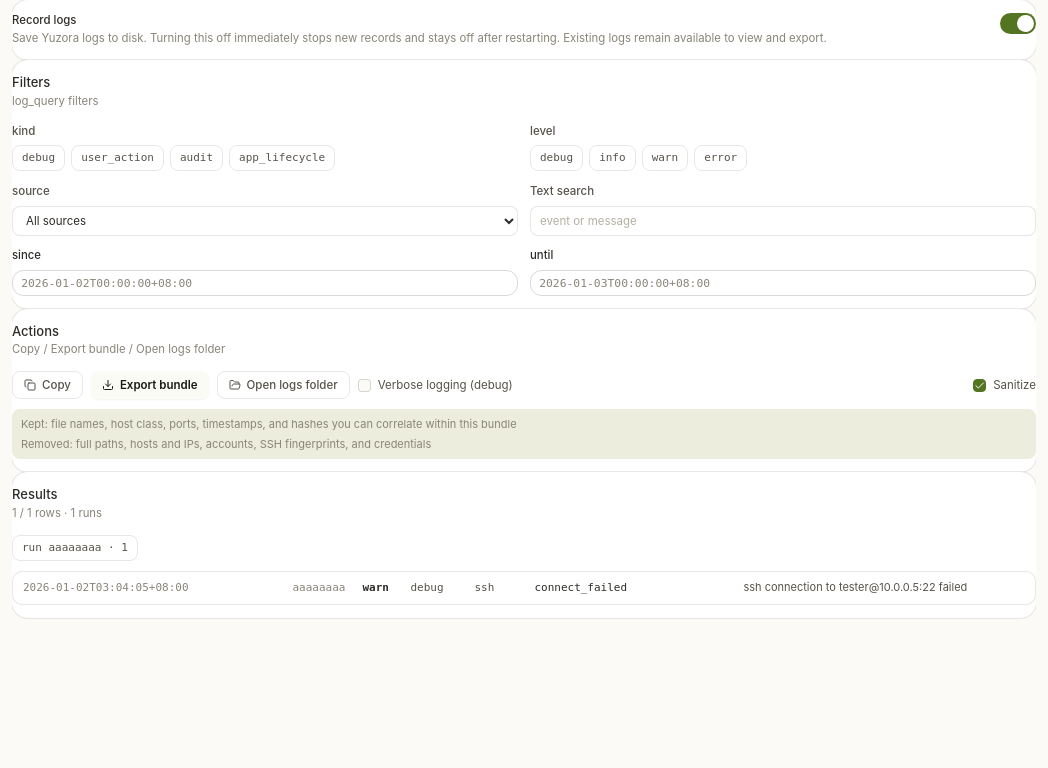
Test: LogsSection recording › keeps recording enabled and reports a failed save
Check: the button with test id "log-row-connect_failed" is shown, box x1=13 y1=572 x2=1035 y2=604
What coordinates should you click on to do the following:
click the switch named "Record logs"
I would click on:
 (1018, 24)
Its box is x1=1000 y1=13 x2=1036 y2=34.
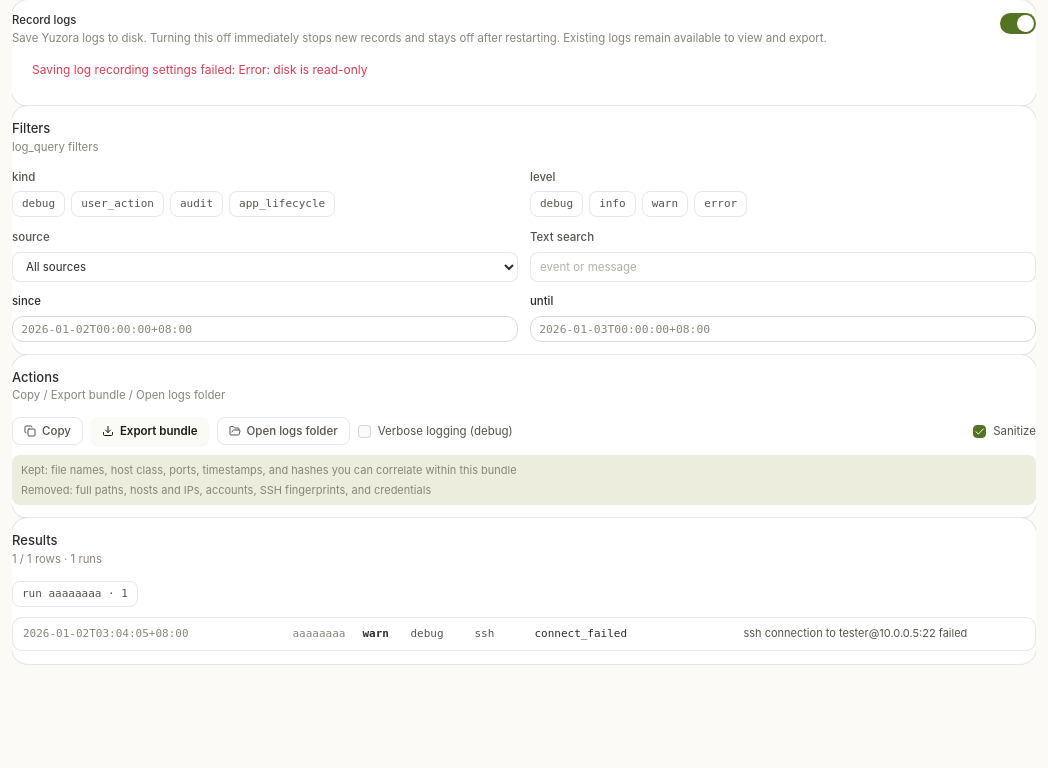
Check: the message shows "disk is read-only", box x1=32 y1=62 x2=368 y2=77
